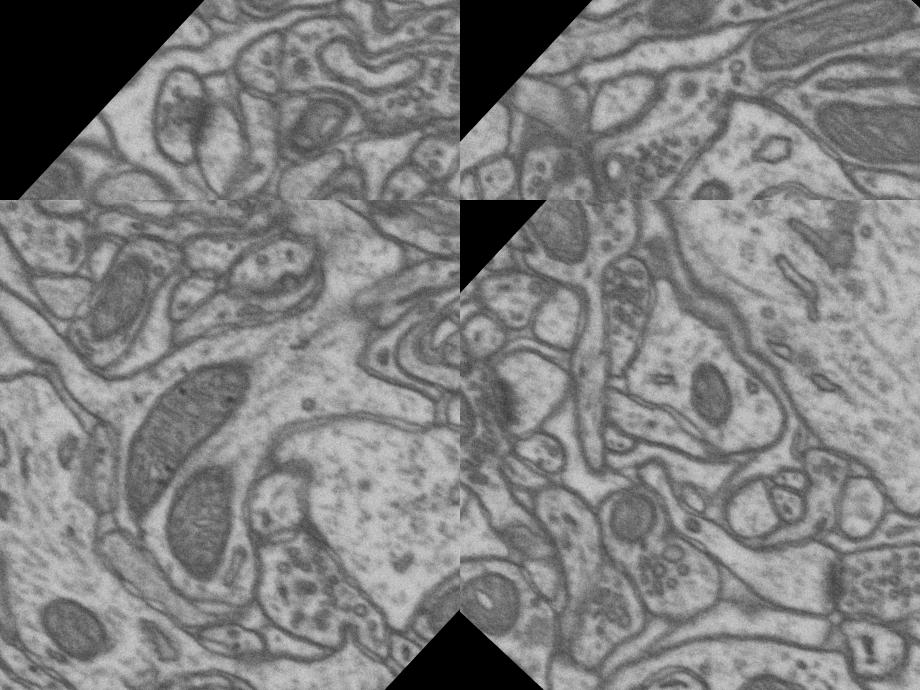mitochondria: (87, 334, 266, 518), (736, 0, 920, 132), (786, 20, 920, 200), (134, 451, 278, 596), (63, 244, 169, 353), (262, 72, 365, 176), (653, 330, 754, 432), (576, 478, 675, 578), (24, 580, 121, 676), (460, 548, 547, 655), (510, 200, 616, 281), (460, 315, 517, 464), (872, 15, 920, 161), (702, 645, 852, 690), (515, 129, 602, 200), (273, 164, 384, 200), (7, 153, 85, 200), (411, 567, 460, 637), (671, 158, 751, 200), (216, 0, 317, 32), (379, 0, 460, 22)
